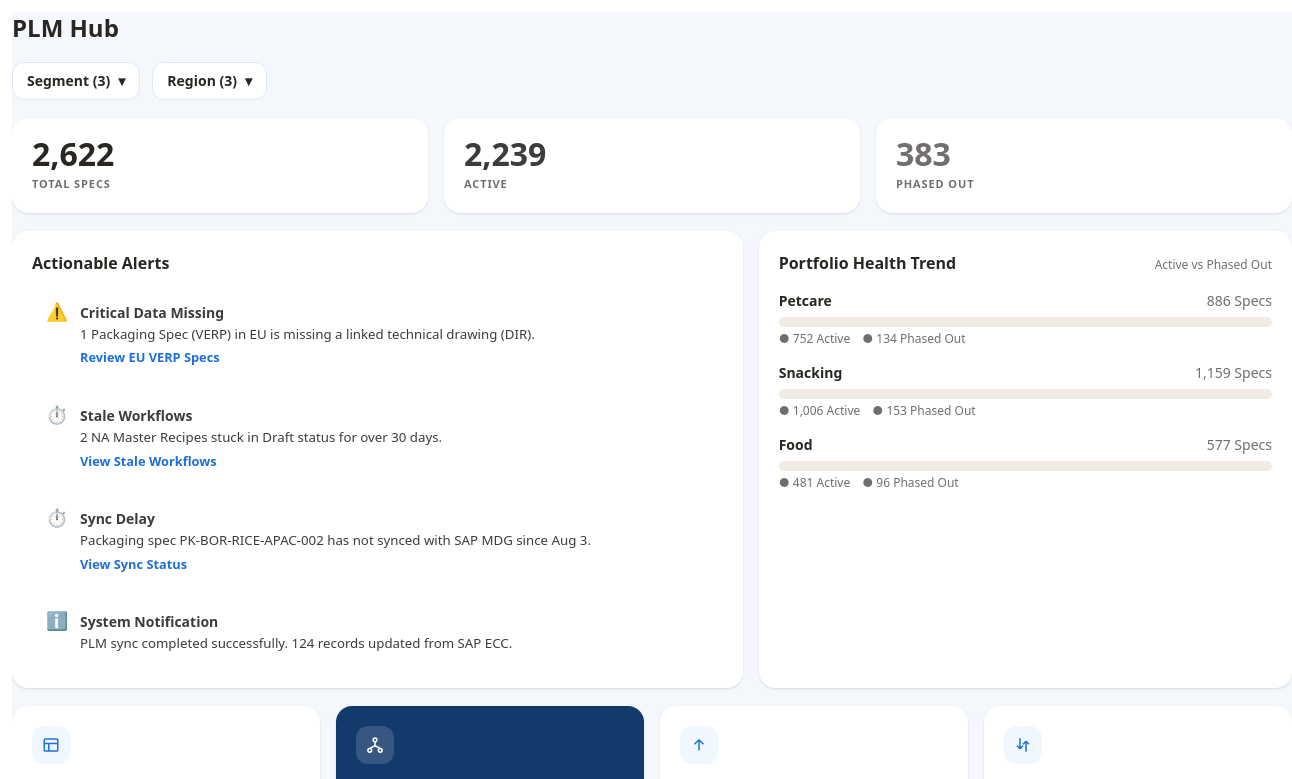
Test case: Hub › Apply commits the pending Segment selection, closes the panel, and recomputes the KPI strip
Click the button "Segment (3) ▾" at (76, 81), box [12,62,140,100]
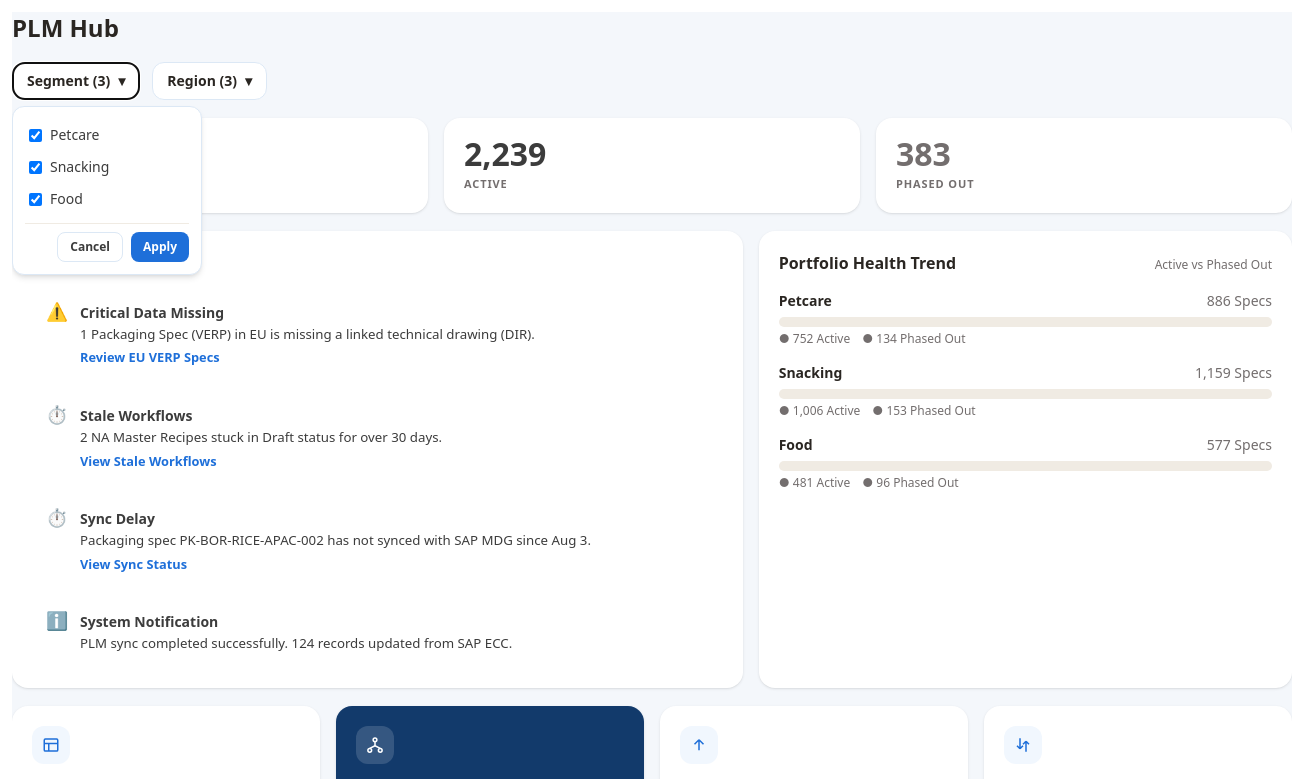
Click the checkbox labelled "Petcare" at (36, 135), box [29,128,42,142]
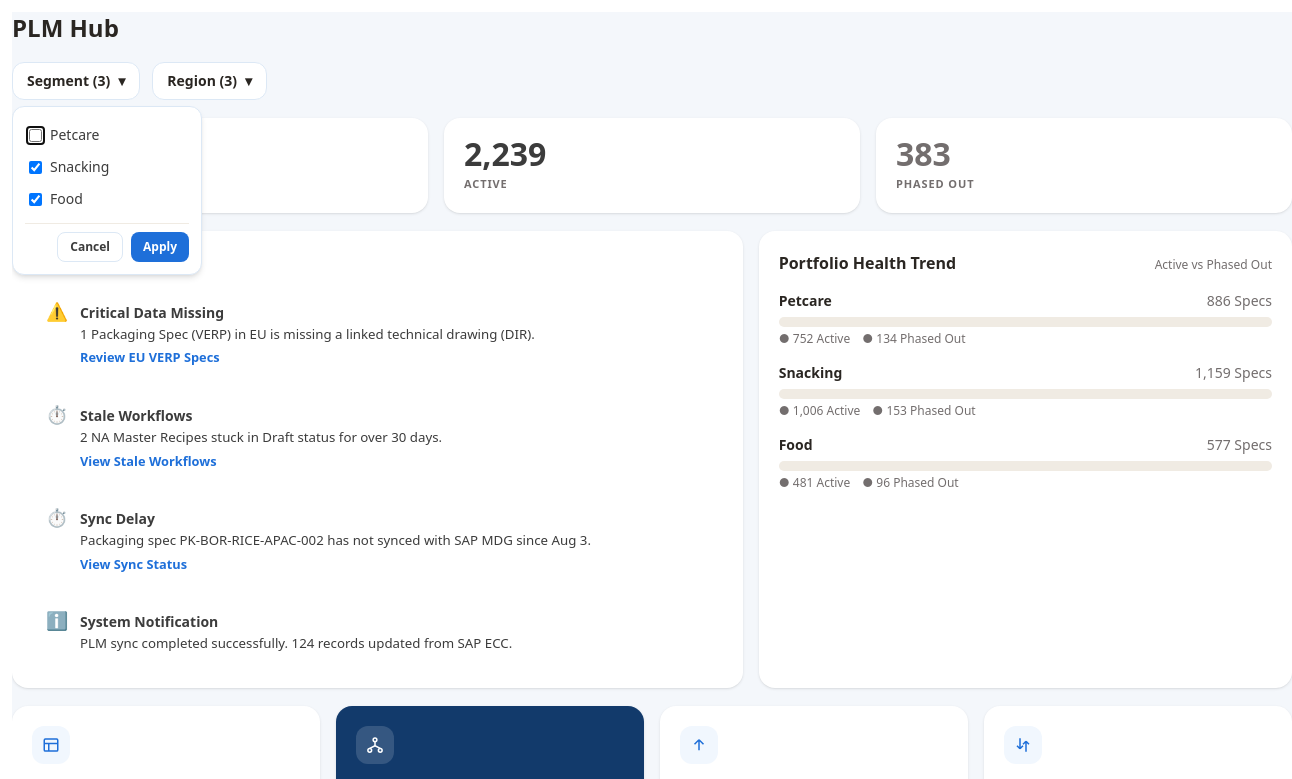
Click the button "Apply" at (160, 247), box [131,232,189,262]
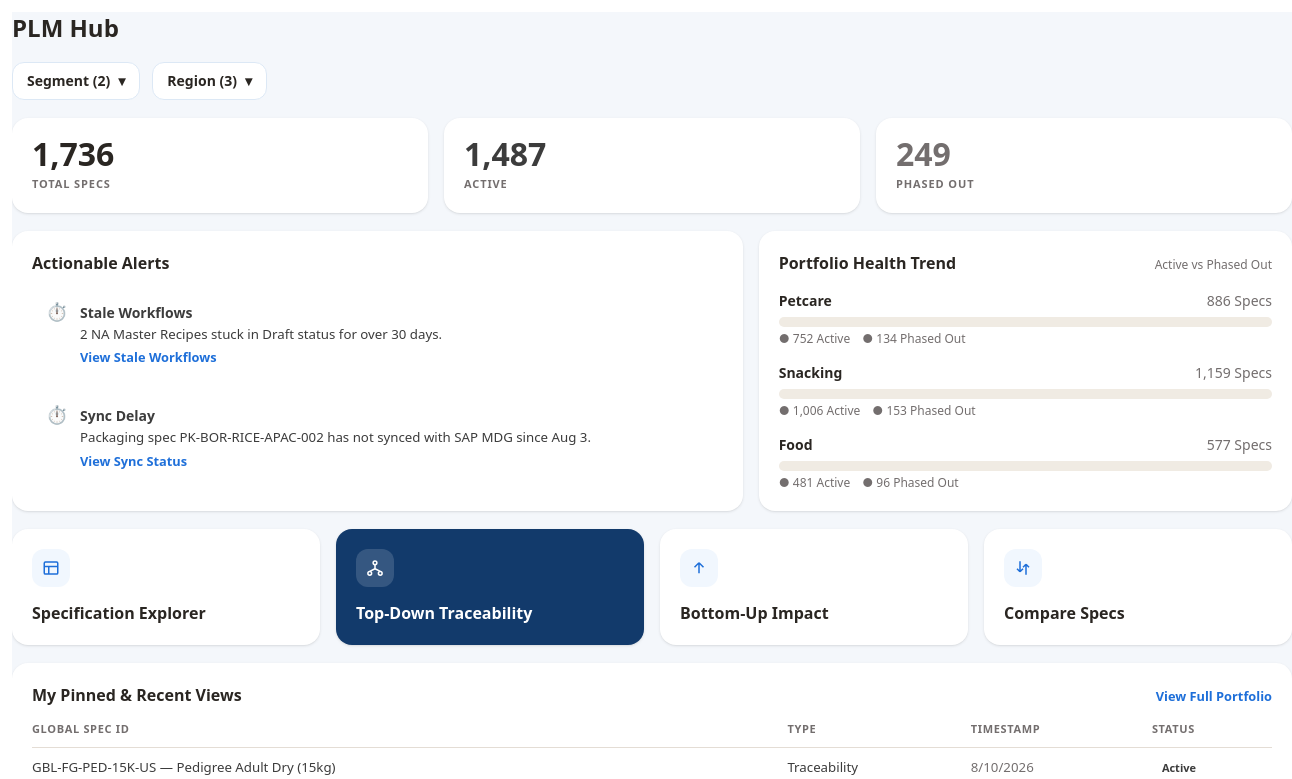
Expected: the button "Segment (2) ▾" is shown, [12,62,140,100]
Expected: the text "1,736" is shown, [32,132,114,175]
